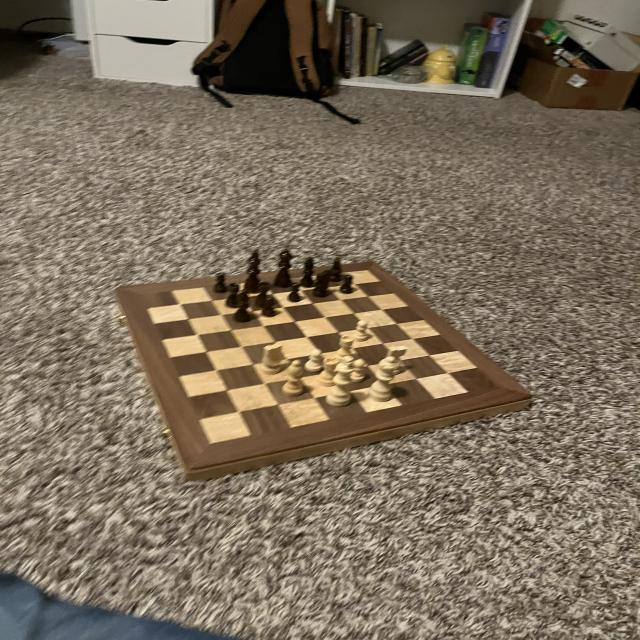bishop: (233, 290, 254, 327), (298, 257, 320, 290)
black-bishop: (242, 245, 264, 294)
black-king: (310, 270, 333, 298), (325, 256, 346, 282)
black-knight: (260, 295, 278, 318), (286, 281, 304, 304), (212, 272, 229, 294), (338, 274, 355, 296)
black-pawn: (272, 250, 295, 289)
black-queen: (225, 282, 244, 310), (255, 280, 274, 308)
black-rook: (280, 358, 306, 398)
white-bishop: (326, 356, 359, 409)
white-king: (382, 342, 409, 377), (260, 340, 282, 376)
white-knight: (349, 357, 370, 382), (304, 348, 324, 372), (351, 318, 370, 342)
white-pawn: (368, 355, 402, 405)
white-queen: (316, 355, 338, 387), (334, 333, 356, 364)
